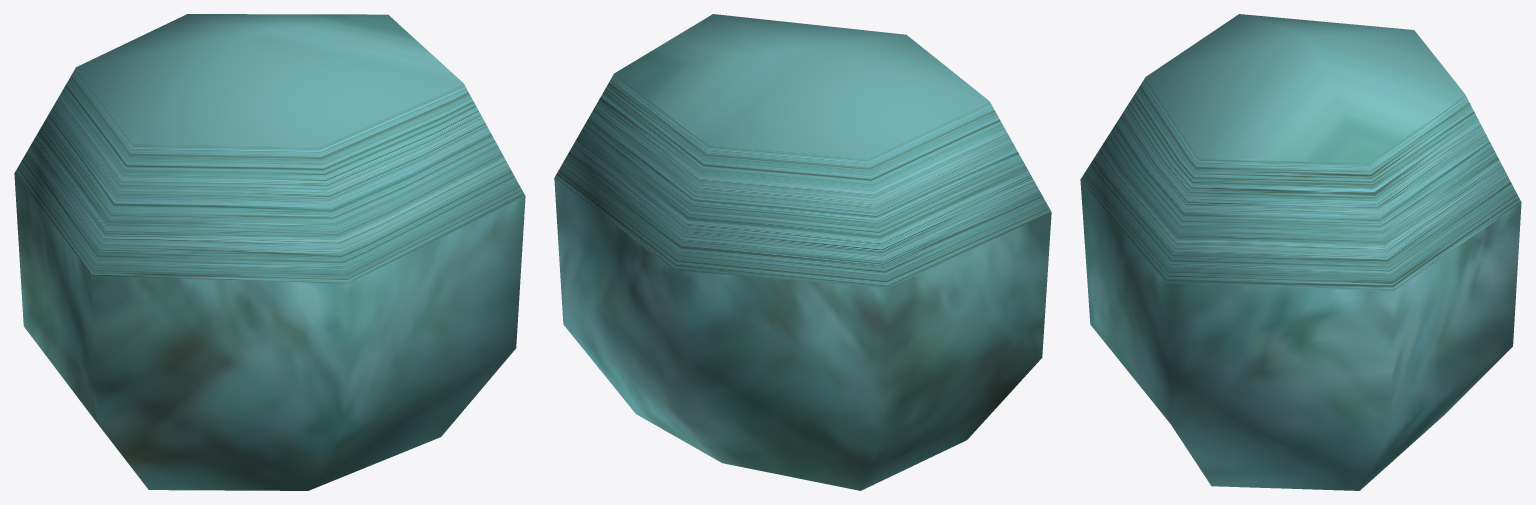
The model's file is EKH_GROTTO_PS_GR_ROCK373635.fbx.
The picture shows the model from 3 angles, left to right: view 1: azimuth 30°, elevation 25°; view 2: azimuth 150°, elevation 25°; view 3: azimuth 270°, elevation 25°; orthographic projection. The views are drawn at different scales.
Visible parts, largest first — view 1: EKH_GROTTO_PS_GR_ROCK373635; view 2: EKH_GROTTO_PS_GR_ROCK373635; view 3: EKH_GROTTO_PS_GR_ROCK373635.
Boxes of the visible parts, x1,y1,x2,y2 form: EKH_GROTTO_PS_GR_ROCK373635: [14, 14, 525, 490]; EKH_GROTTO_PS_GR_ROCK373635: [554, 14, 1051, 490]; EKH_GROTTO_PS_GR_ROCK373635: [1080, 14, 1521, 490].
Bounding box in the file's own units: 17392 × 15760 × 16472.
1 material, 1 textured.
